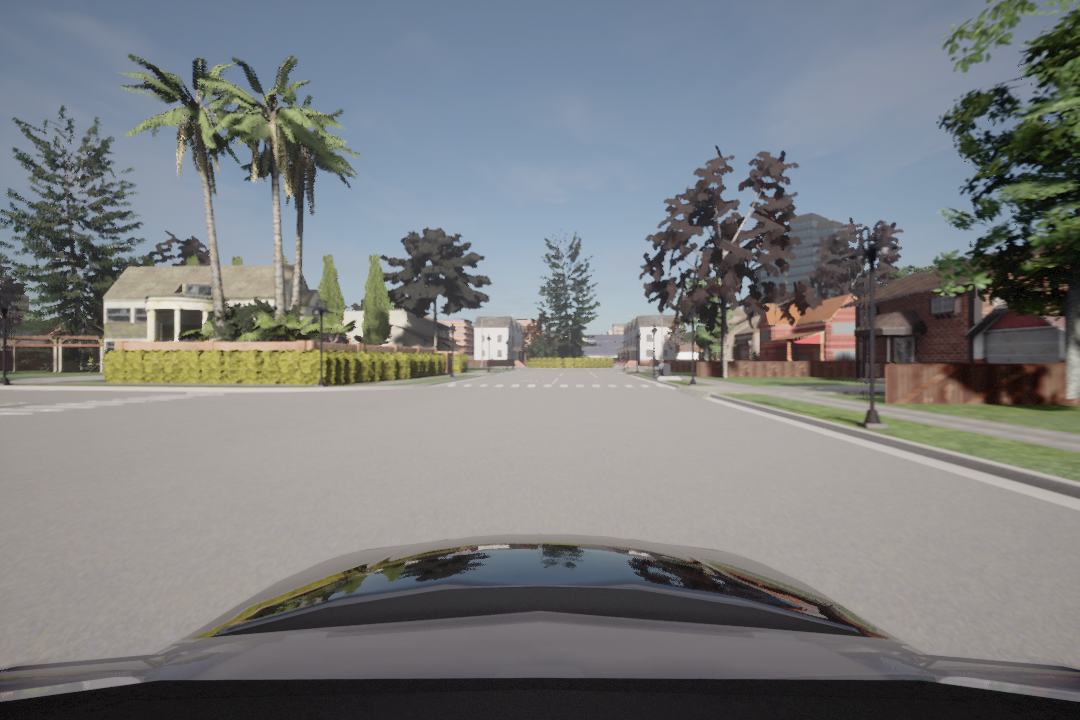walkside: (448, 381, 664, 391)
